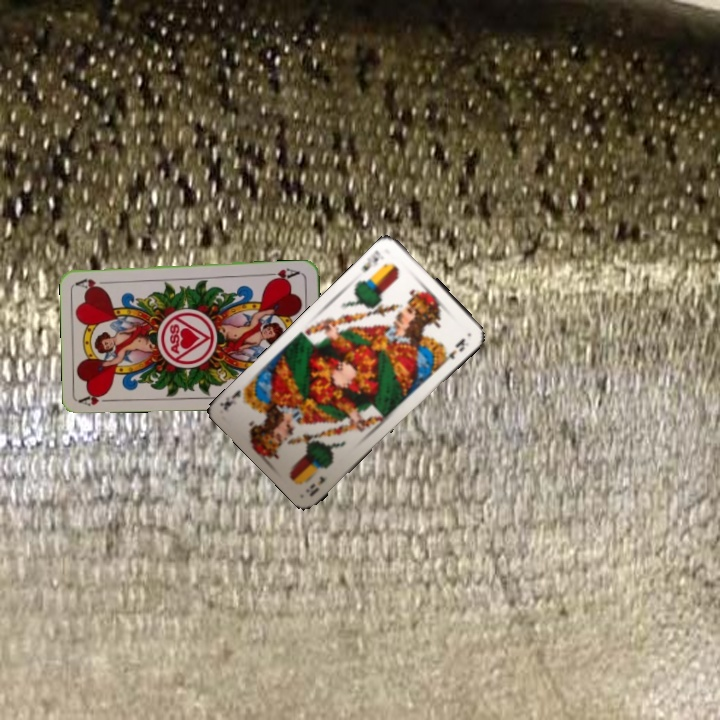EK: (358, 246, 387, 275), (303, 472, 329, 499)
HA: (77, 389, 117, 409), (263, 264, 302, 284)
